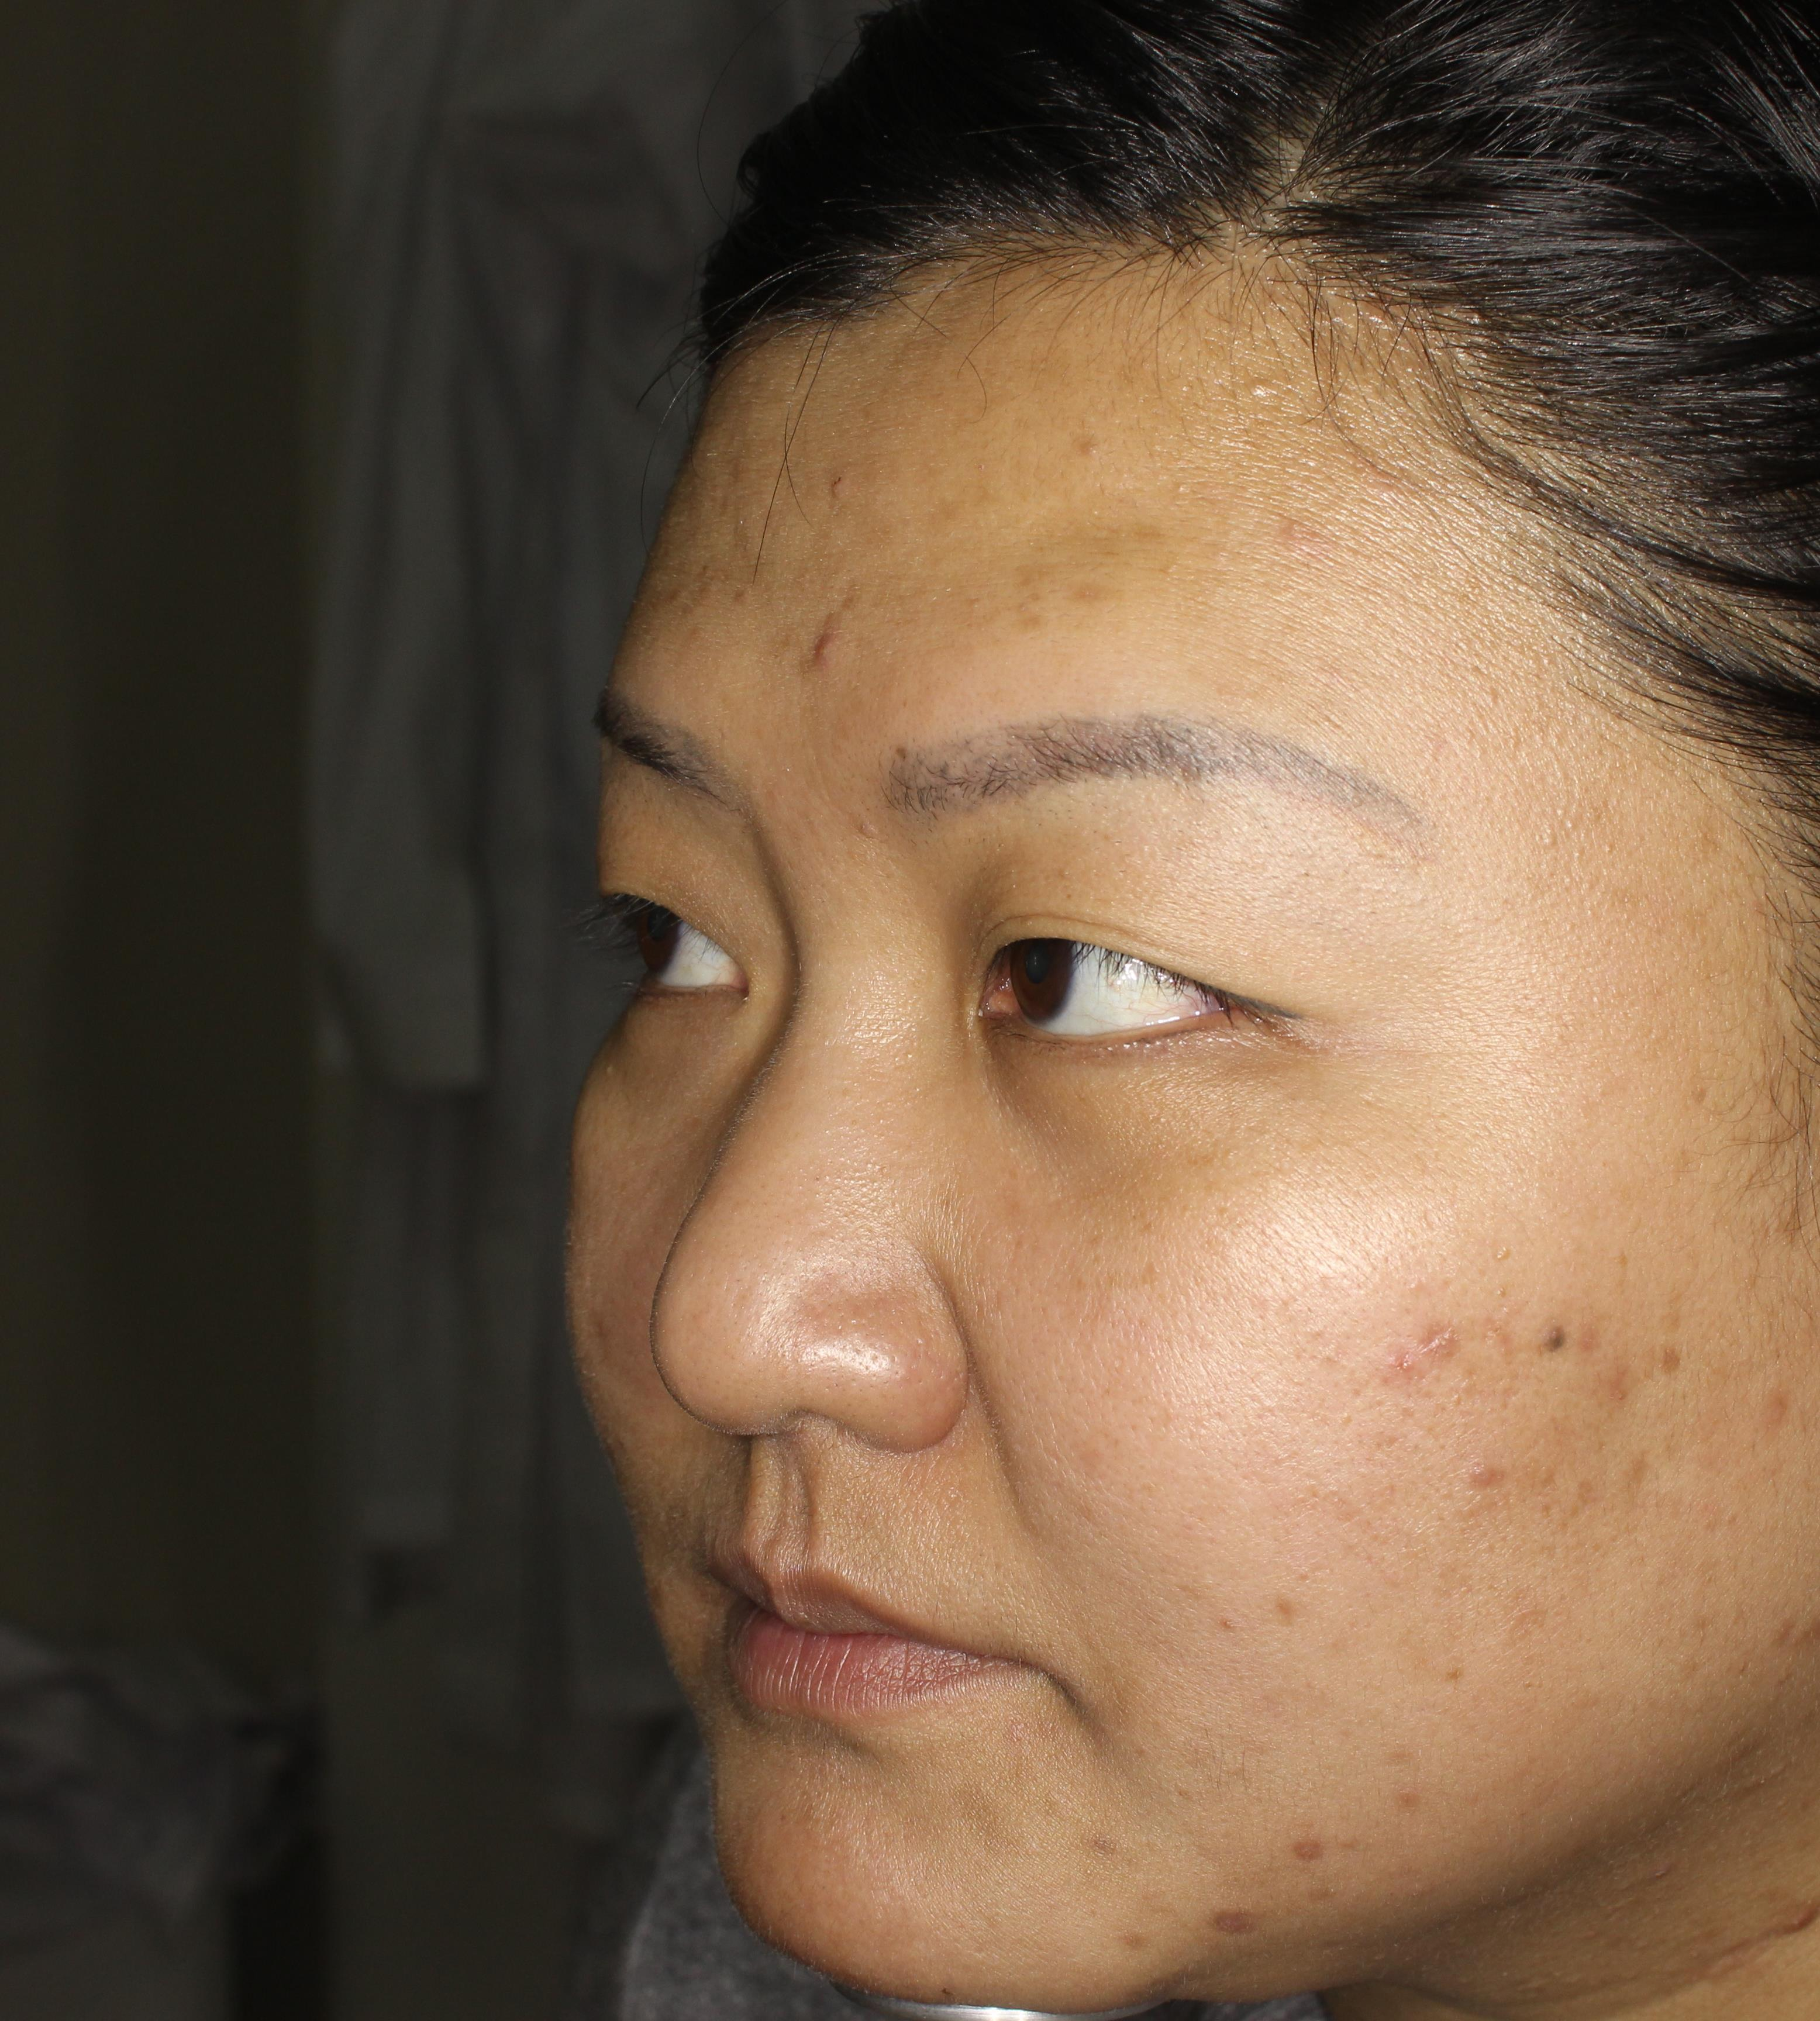fore: (1179, 1854, 1279, 1967), (776, 604, 875, 685), (1449, 1428, 1534, 1517), (1609, 1433, 1678, 1505), (1400, 1303, 1449, 1396), (1288, 1800, 1328, 1903), (1592, 1329, 1641, 1410)
